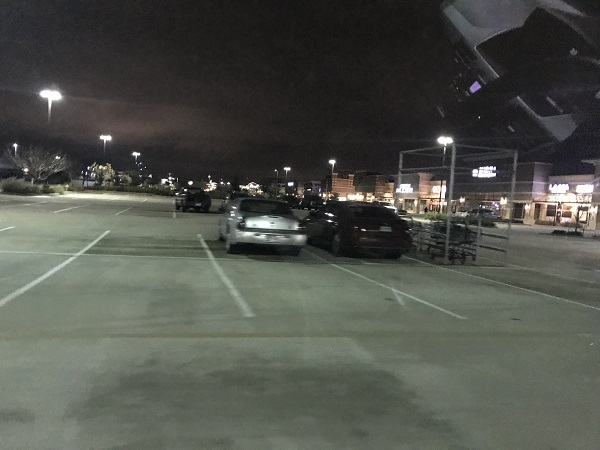car: (302, 201, 413, 261), (214, 197, 306, 257)
truck: (173, 187, 210, 210)
